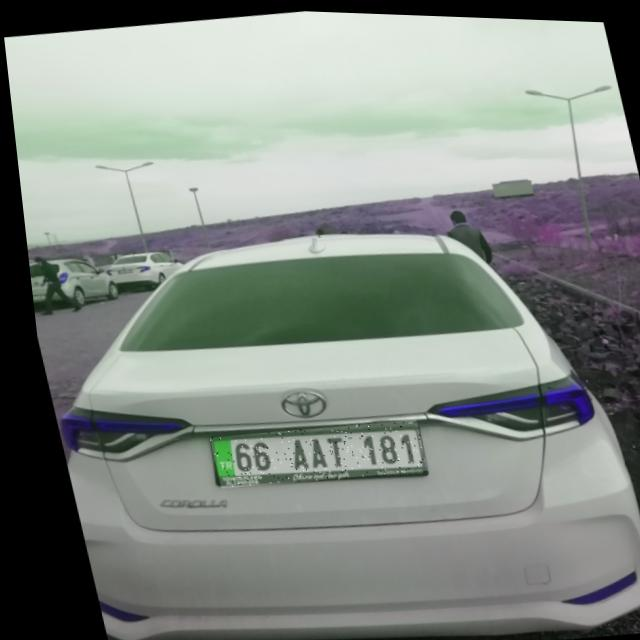license_plate: (196, 410, 419, 492)
